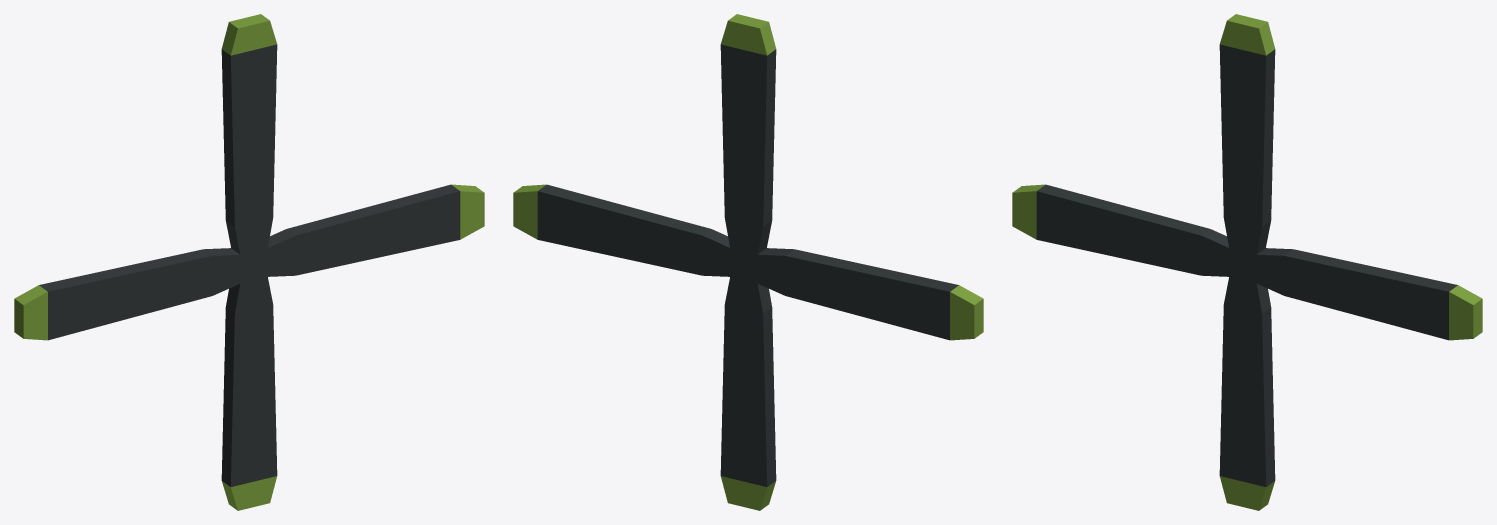
3 renders of one model, left to right at view 1: azimuth 30°, elevation 25°; view 2: azimuth 150°, elevation 25°; view 3: azimuth 330°, elevation 25°, orthographic.
Visible parts, largest first — view 1: Plane_04_2; view 2: Plane_04_2; view 3: Plane_04_2.
Boxes of the visible parts, x1=… form: Plane_04_2: x1=14, y1=14, x2=484, y2=510; Plane_04_2: x1=513, y1=14, x2=983, y2=510; Plane_04_2: x1=1012, y1=14, x2=1482, y2=510.
Size of the model in its own units: 1.72 by 1.72 by 0.0587.
